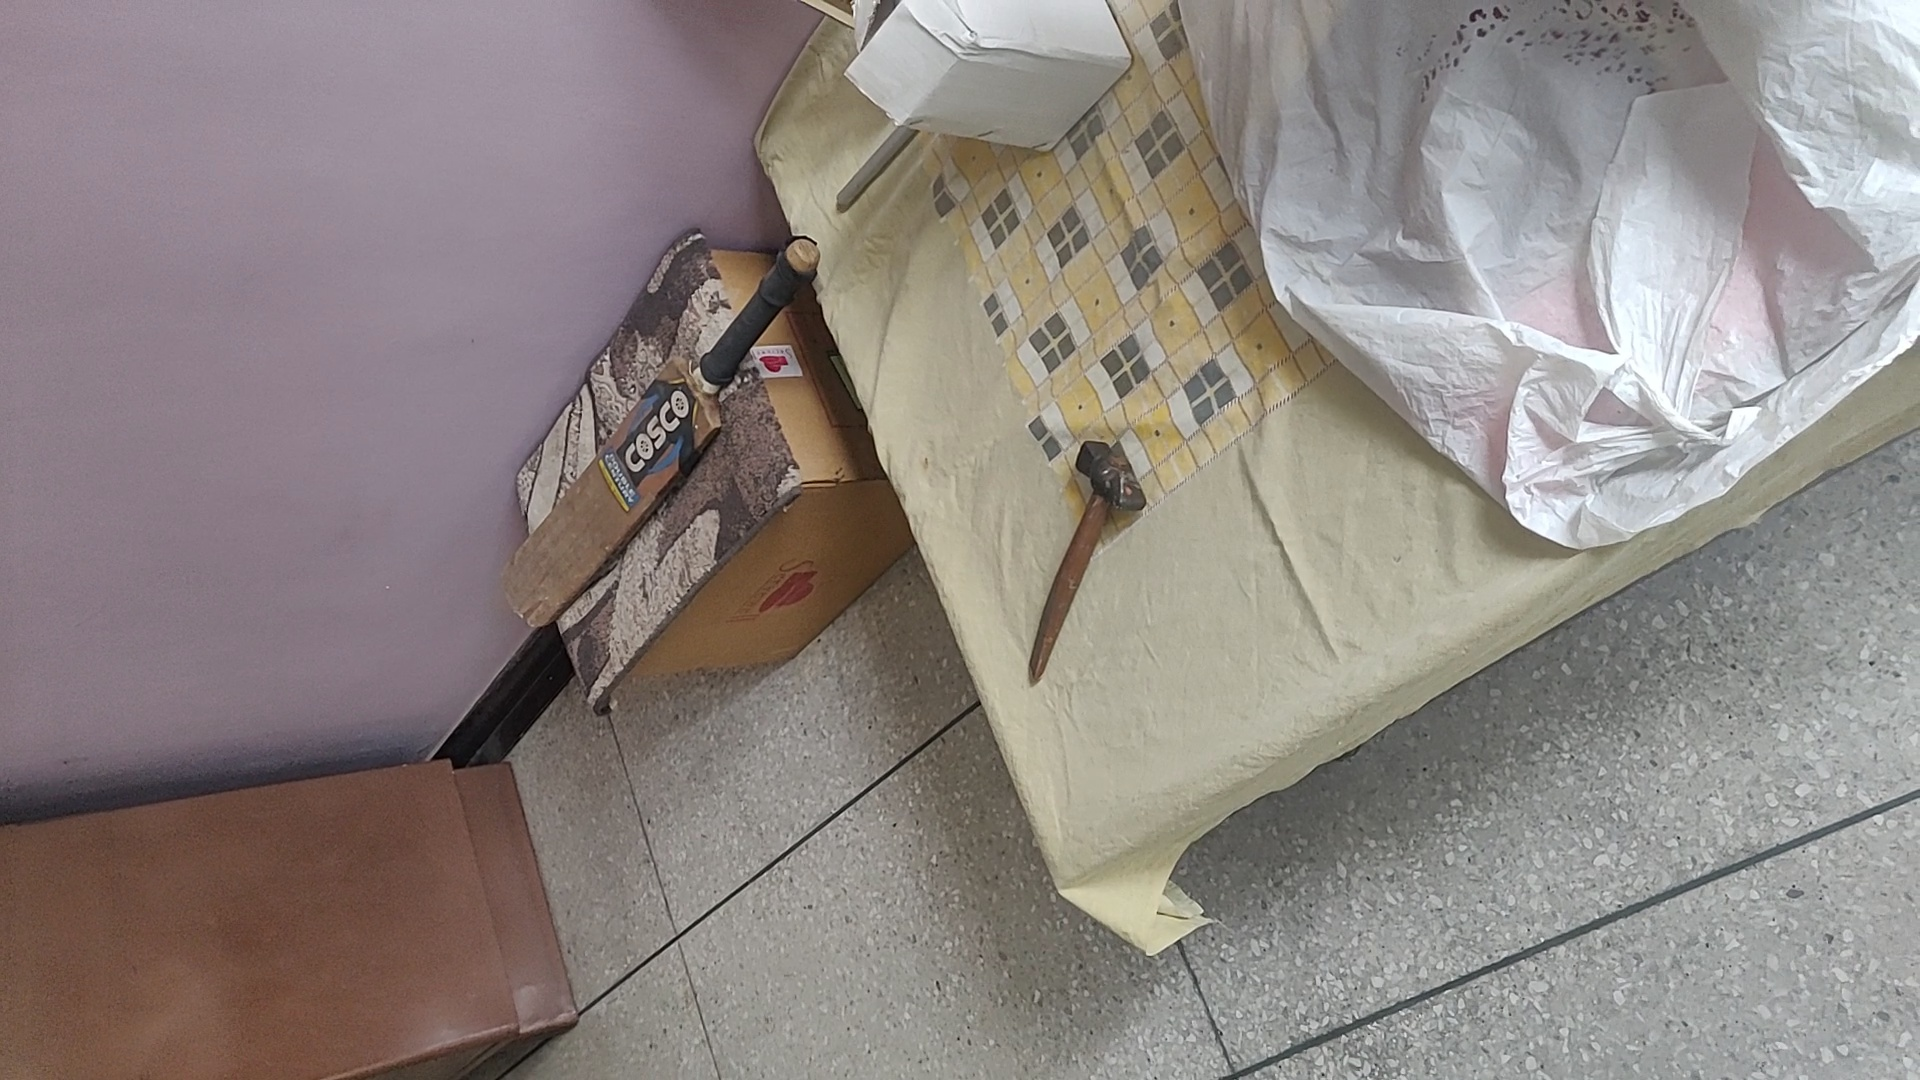hammer: (1015, 439, 1149, 692)
